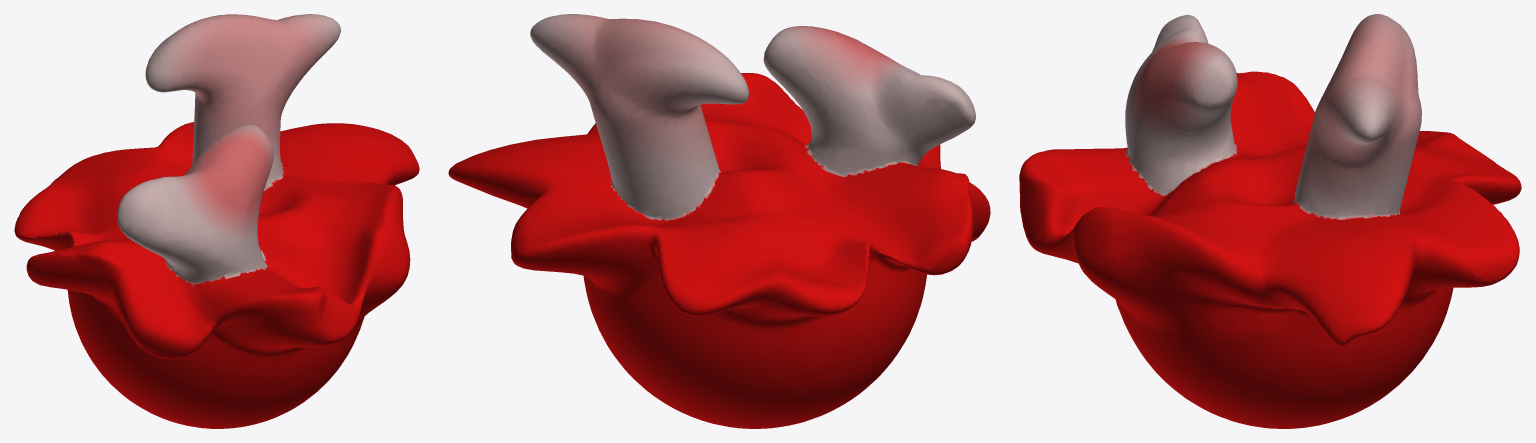
Rendered from splat.gltf.
3 views of the same model, side by side, from view 1: azimuth 30°, elevation 25°; view 2: azimuth 150°, elevation 25°; view 3: azimuth 270°, elevation 25° (orthographic). The views are drawn at different scales.
Visible parts, largest first — view 1: Bloodsplat; view 2: Bloodsplat; view 3: Bloodsplat.
Part boxes in pixels (x1,y1,x2,y2): Bloodsplat: (14, 14, 419, 428); Bloodsplat: (448, 14, 990, 428); Bloodsplat: (1019, 14, 1521, 428).
Bounding box in the file's own units: 1.07 × 0.8746 × 0.9739.
